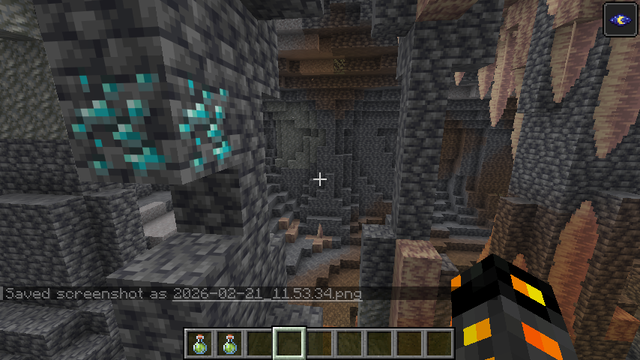diamond: (50, 69, 233, 179)
